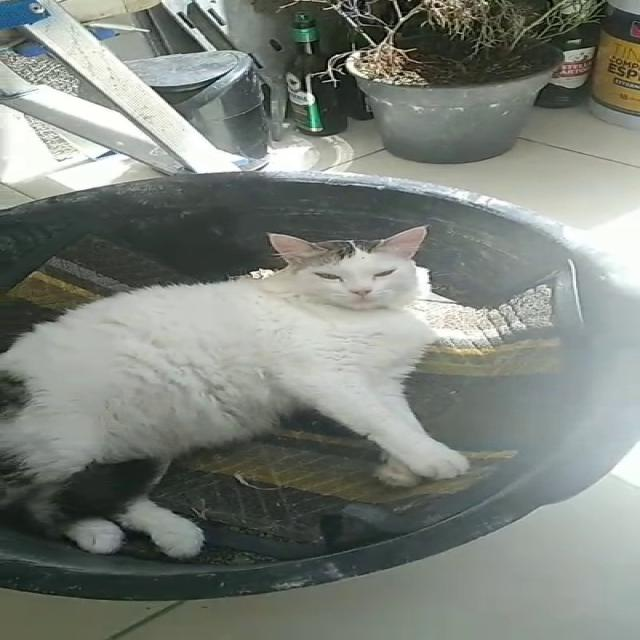Simba: (9, 182, 502, 565)
